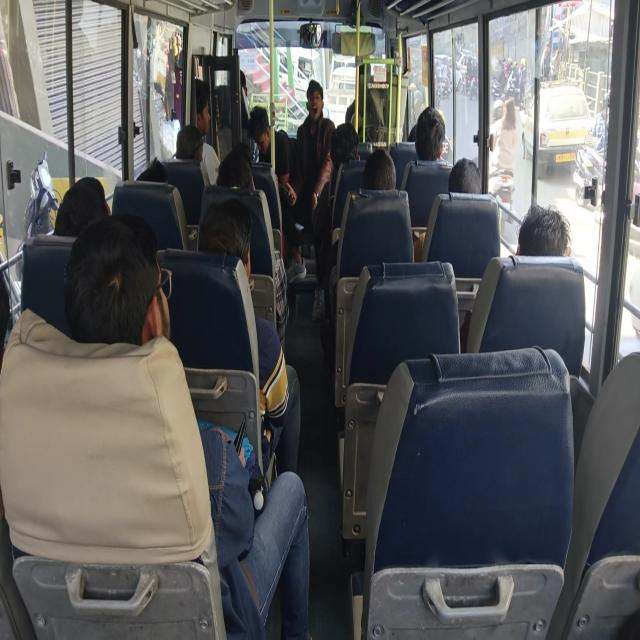person: (70, 227, 172, 371), (0, 253, 36, 360), (207, 206, 257, 277), (520, 206, 572, 267), (51, 180, 110, 232), (357, 147, 401, 202), (418, 104, 446, 179), (170, 126, 213, 166), (451, 154, 488, 200), (218, 154, 258, 195), (140, 160, 170, 192), (249, 108, 274, 146), (304, 83, 326, 126), (334, 127, 358, 161), (187, 95, 212, 126), (231, 139, 255, 164), (406, 123, 426, 148)
